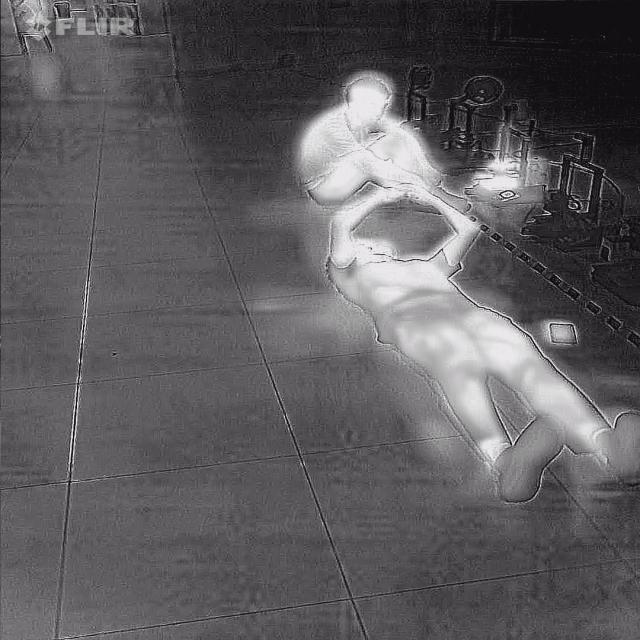Victim: (321, 170, 638, 502), (290, 71, 480, 214)
